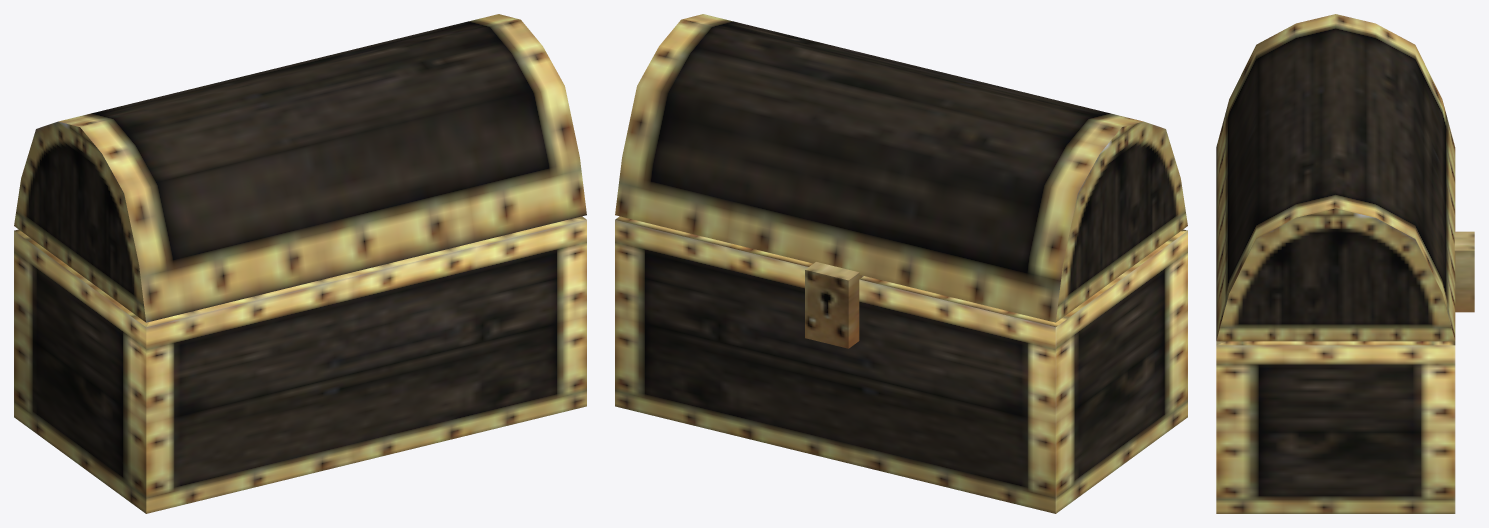
The model's file is TreasureChest01.obj.
The picture shows the model from 3 angles, left to right: view 1: azimuth 30°, elevation 25°; view 2: azimuth 150°, elevation 25°; view 3: azimuth 270°, elevation 25°; orthographic projection. The views are drawn at different scales.
Visible parts, largest first — view 1: Mesh_0; view 2: Mesh_0; view 3: Mesh_0.
Part boxes in pixels (x1,y1,x2,y2): Mesh_0: (14,14,586,513); Mesh_0: (615,14,1187,513); Mesh_0: (1216,14,1474,513).
Bounding box in the file's own units: 1.15 × 0.8404 × 0.6432.
Materials: 1 (1 with a texture image).
